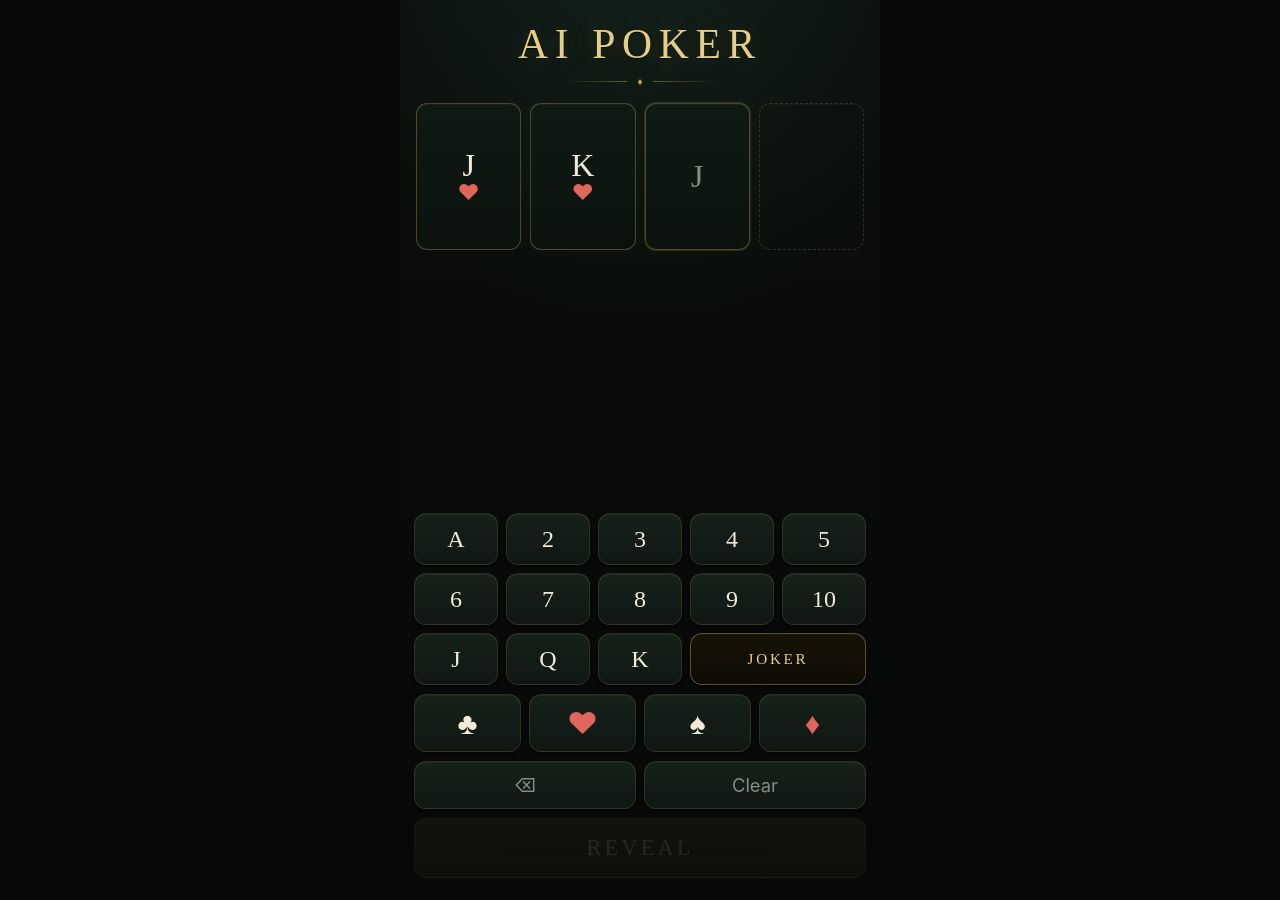
it: reveal flows › block group JH,KH,JC,4D reveals Ten of Diamonds; No gives Instagram correction
The width and height of the screenshot is (1280, 900).
Earlier steps of the test are not shown.
Click the button "♣": (468, 723) [414,694,521,752]
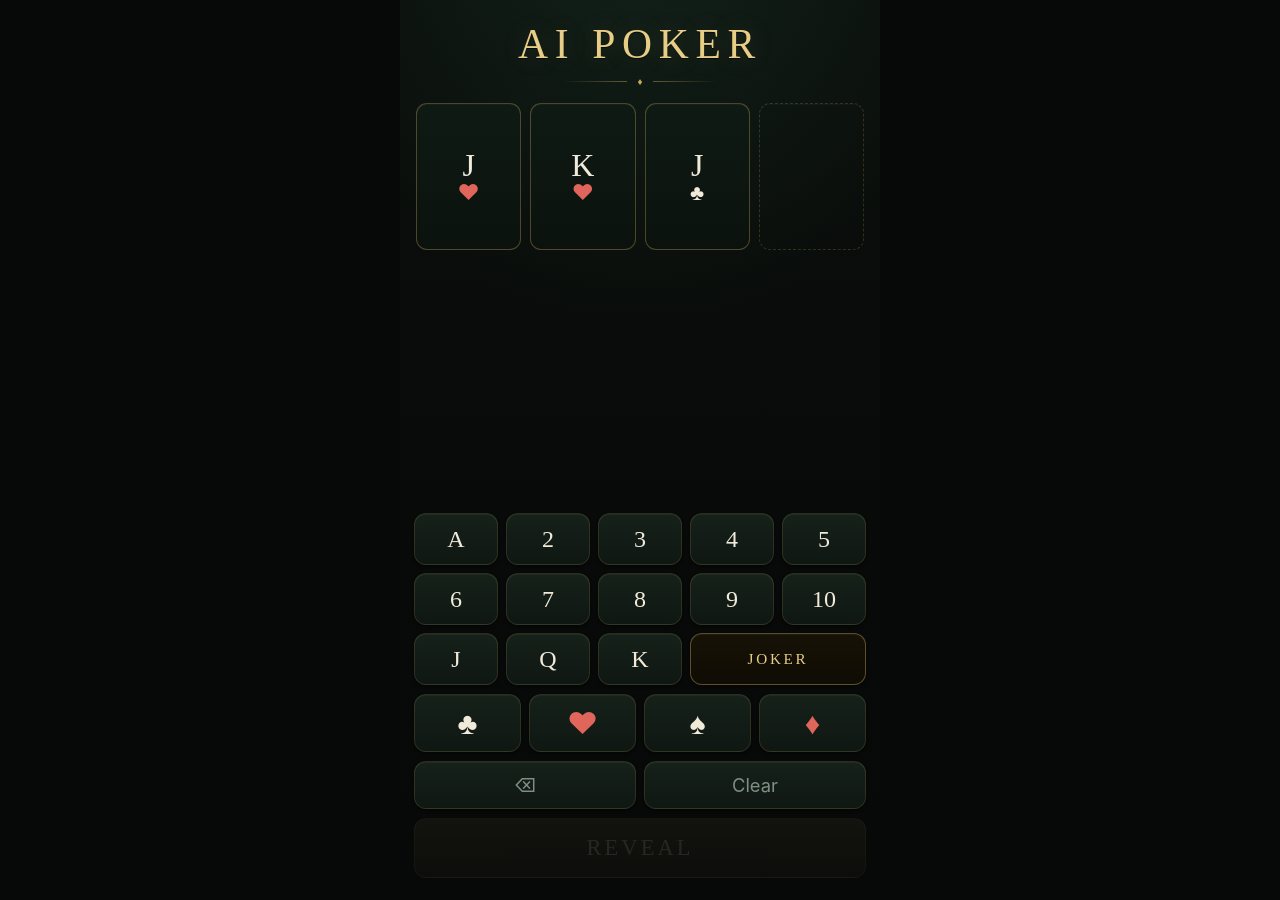
Click the button "4": (732, 539) [690,513,774,565]
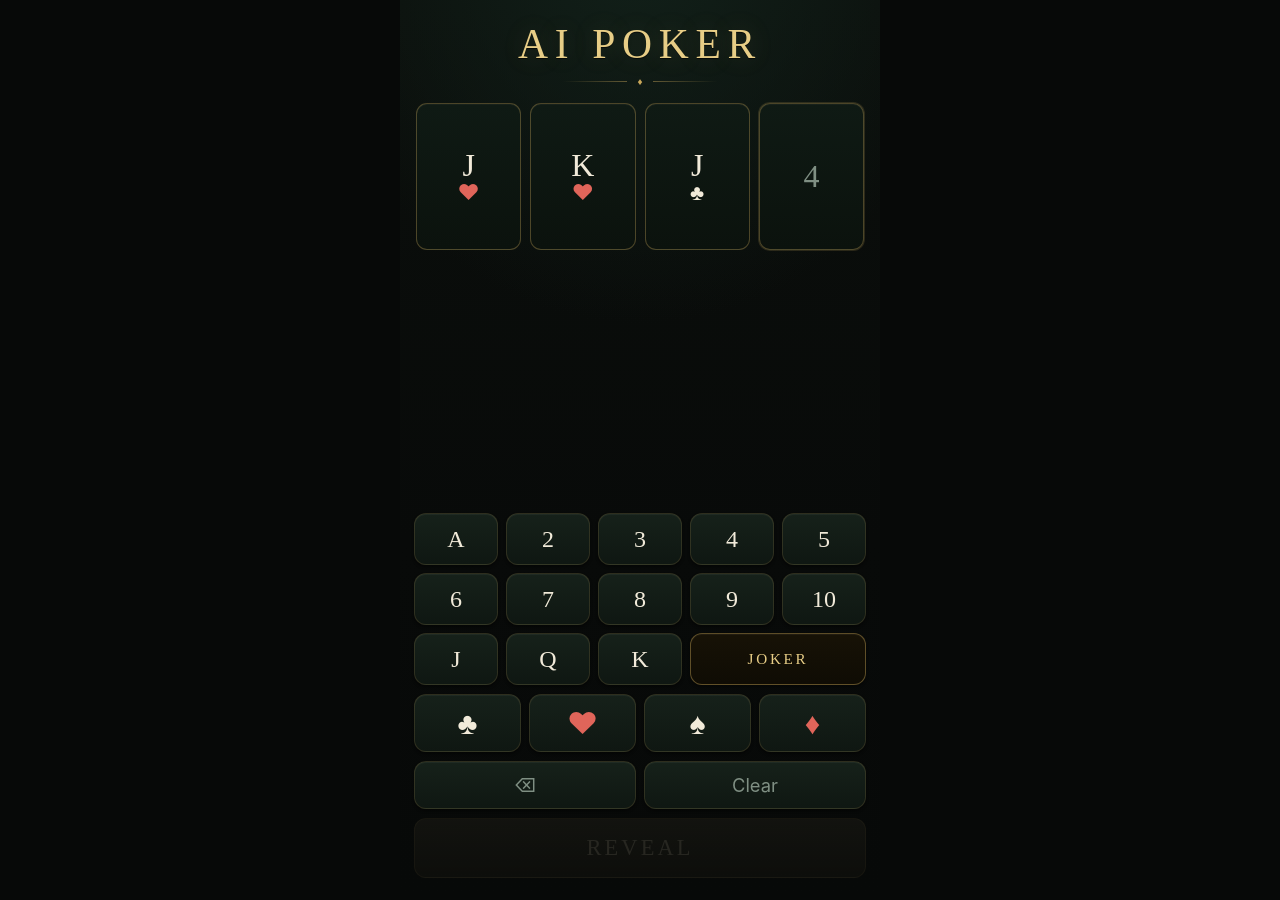
Click the button "♦": (812, 723) [759,694,866,752]
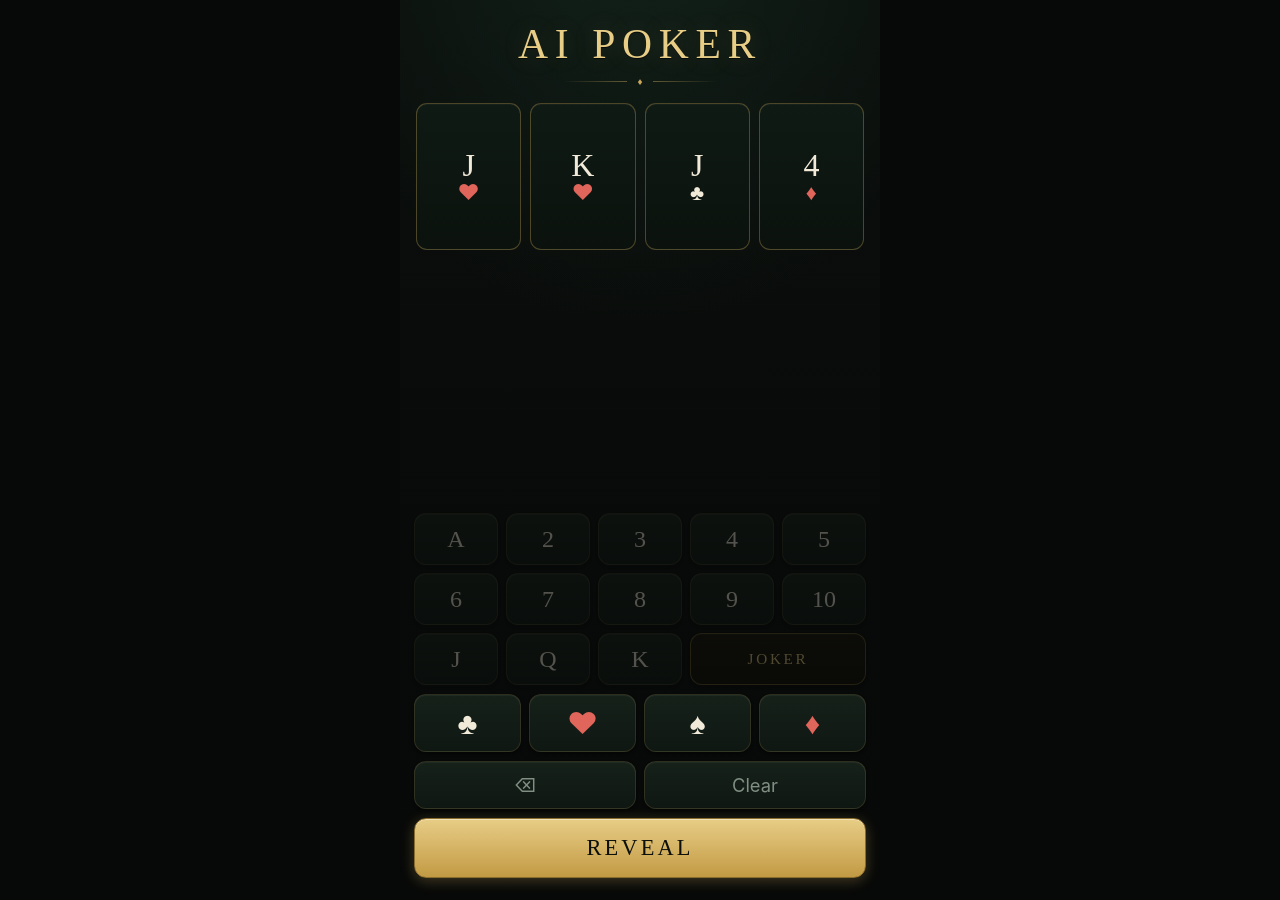
Click the button "Reveal": (640, 848) [414,818,866,878]
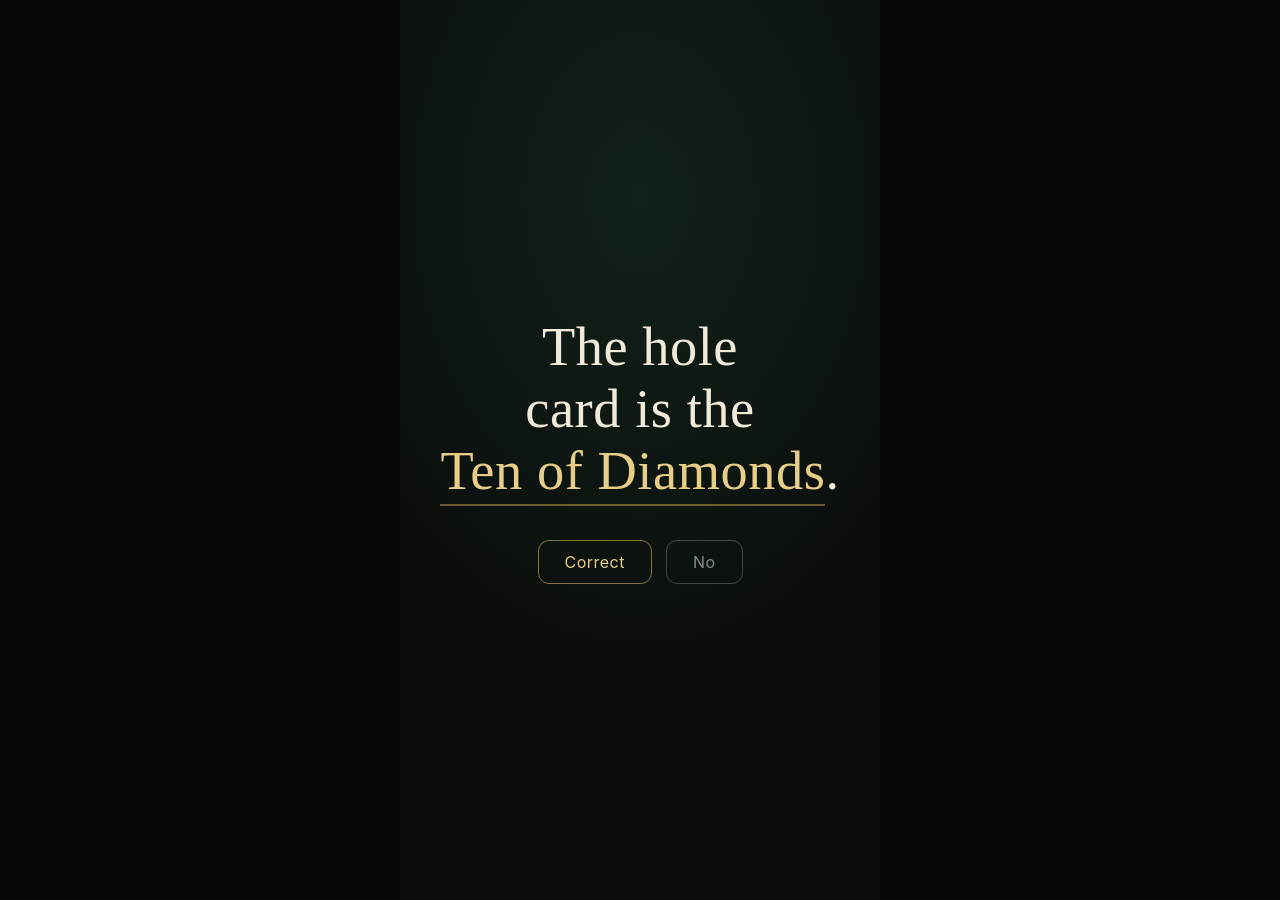
Check: the text "Ten of Diamonds" is shown, box [440,440,825,506]
Click the button "No": (704, 562) [666,540,742,584]
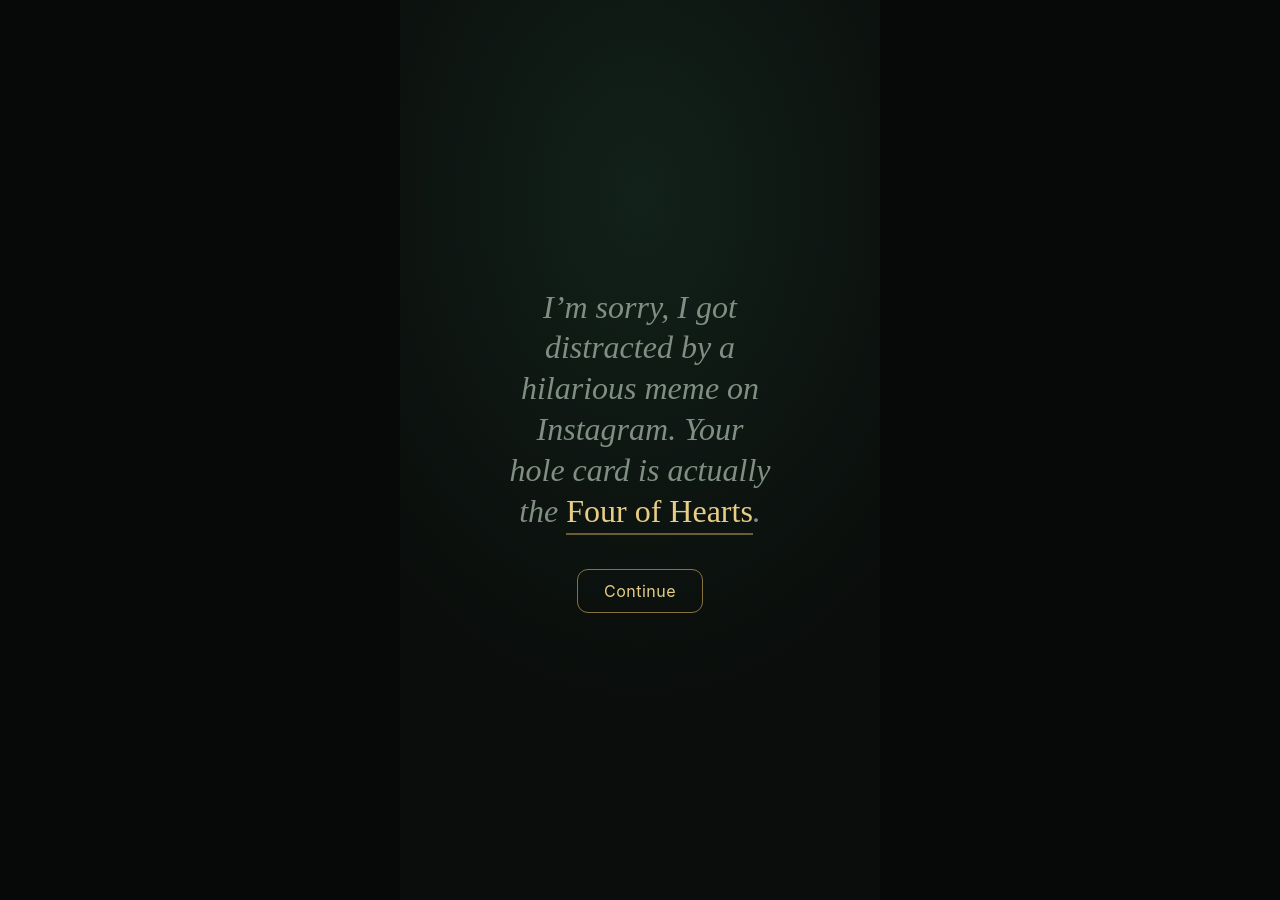
Check: the text "Instagram" shows "Four of Hearts", box [566,493,753,529]
Click the button "Continue": (640, 592) [577,570,703,614]
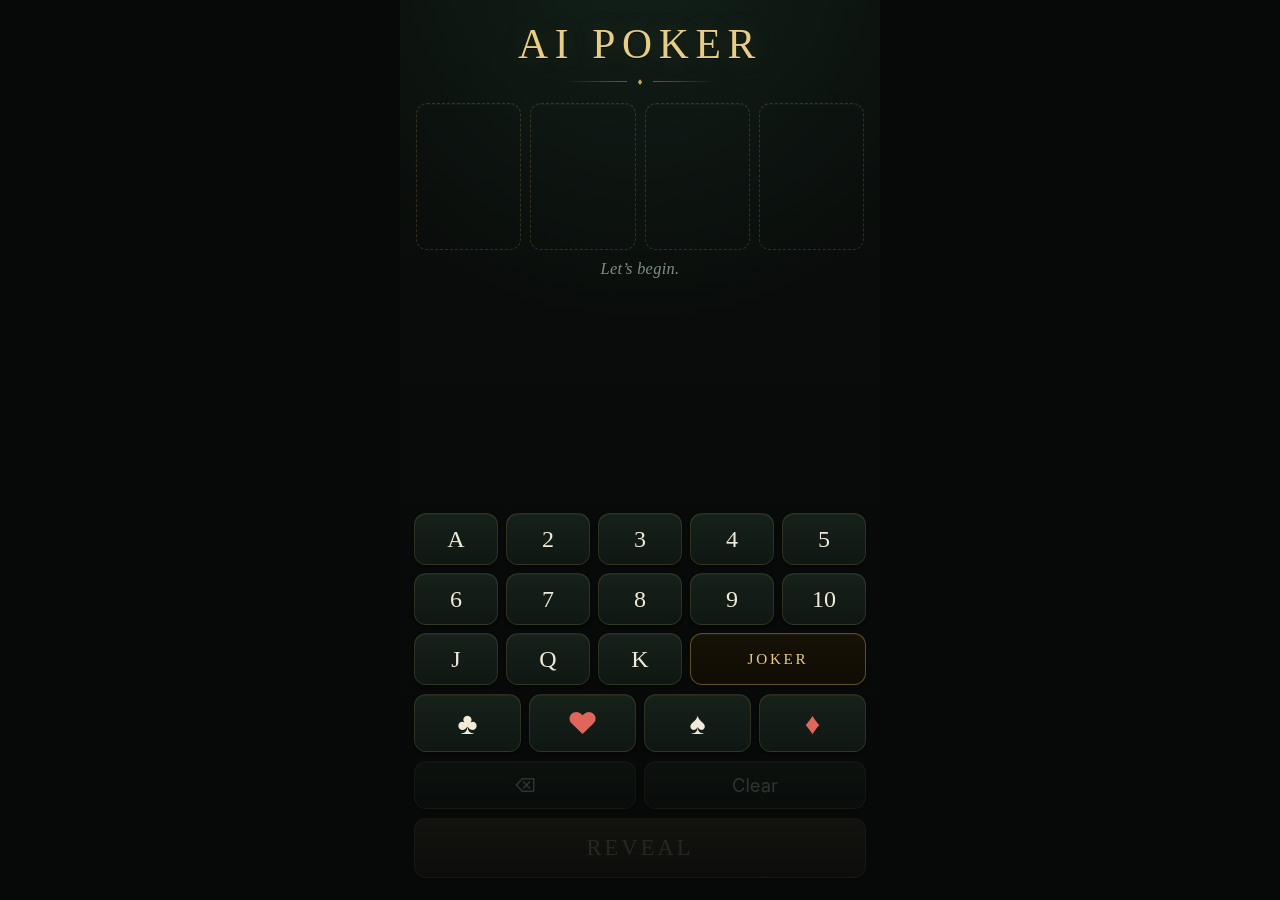
Check: the text "Let’s begin." is shown, box [601,259,679,279]
